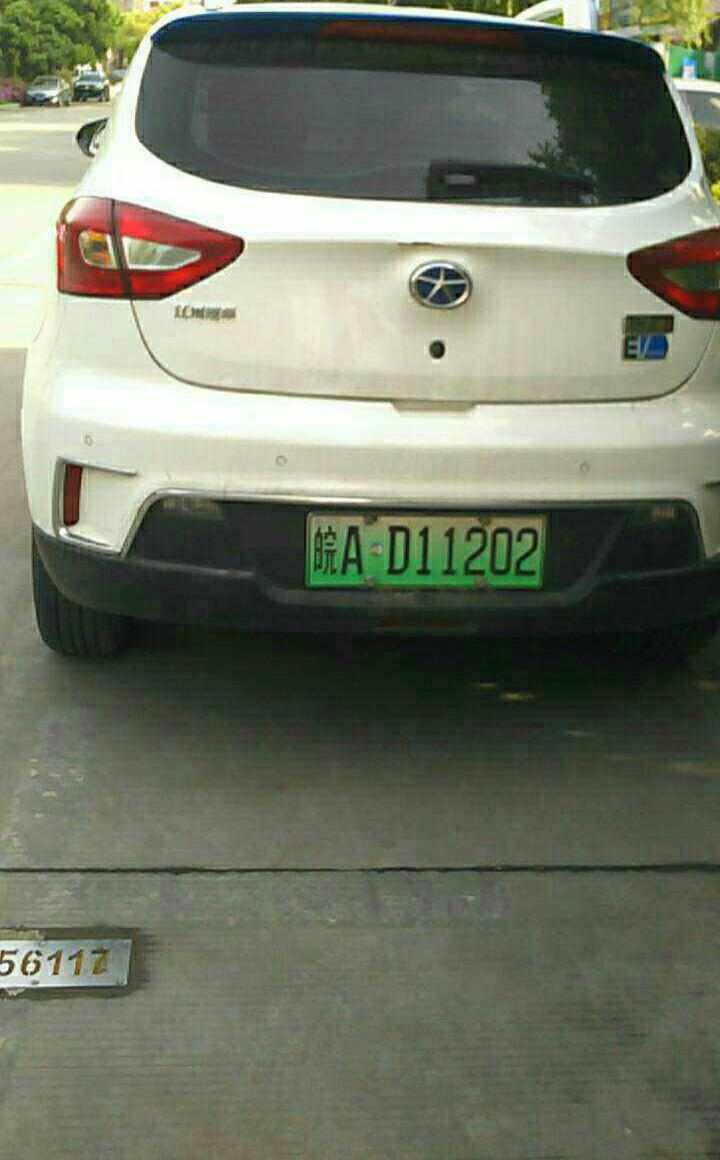car: (294, 499, 558, 593)
